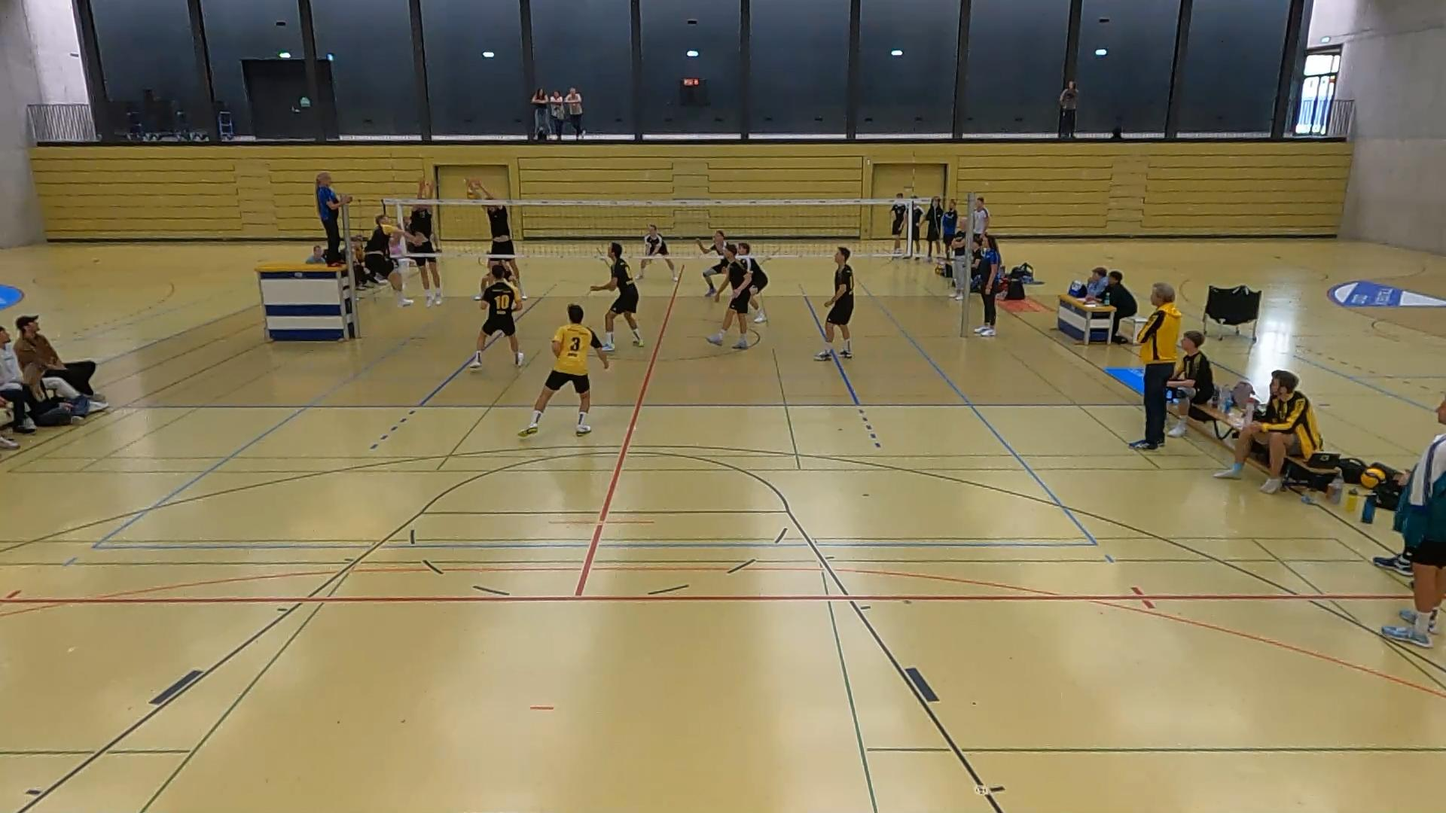Attack: (362, 211, 431, 310)
Block: (461, 177, 532, 303), (404, 174, 450, 313)
Player: (519, 304, 609, 437), (590, 242, 643, 352), (469, 261, 523, 368), (706, 244, 752, 349), (815, 246, 853, 360), (738, 242, 768, 323), (637, 224, 678, 282), (697, 230, 728, 296)
ball: (464, 186, 480, 205)
